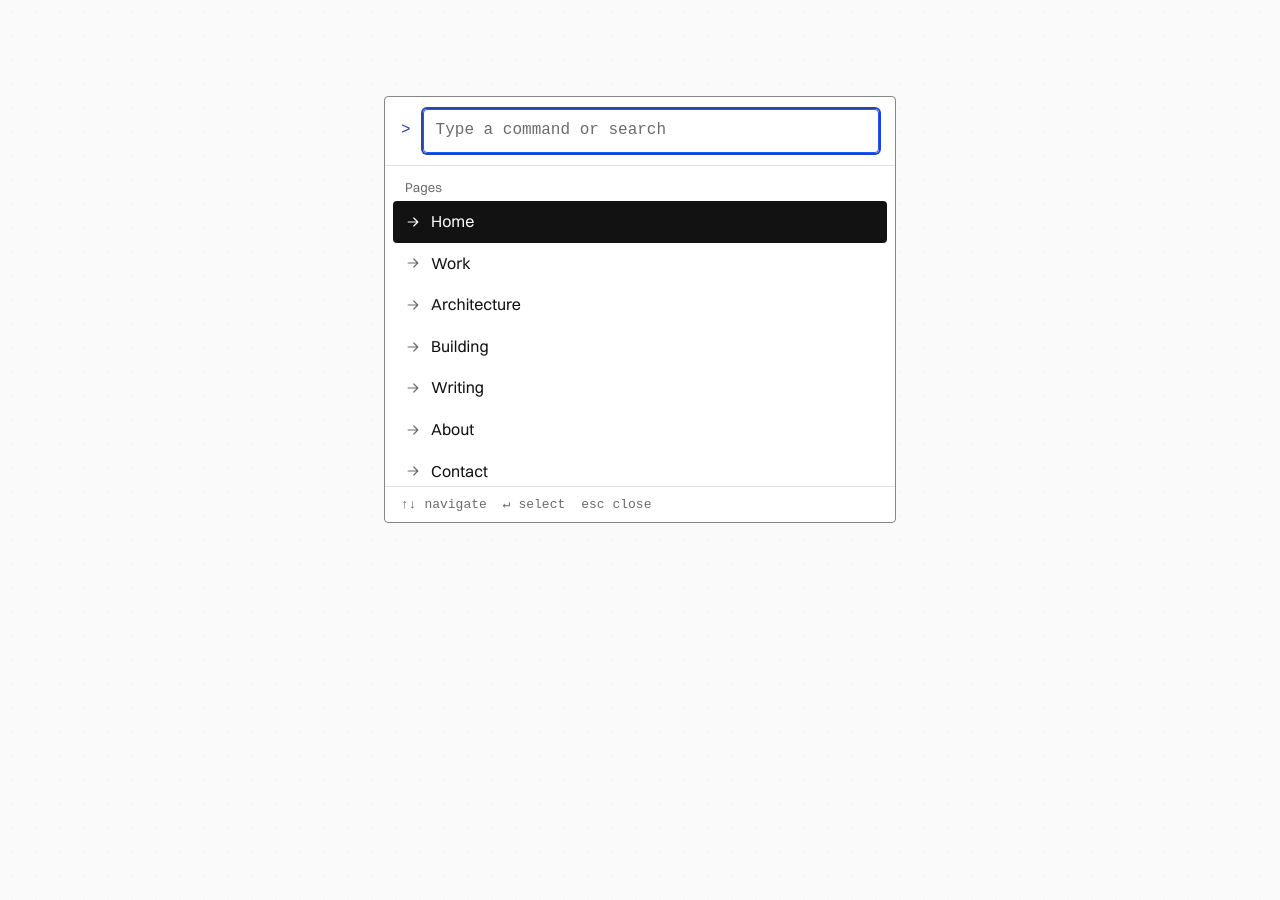
Test: CommandPalette.svelte › filters commands as the query changes
The width and height of the screenshot is (1280, 900).
Type "theme" into the field with placeholder "Type a command or search" at {"x": 651, "y": 131}, box [423,109,879,153]
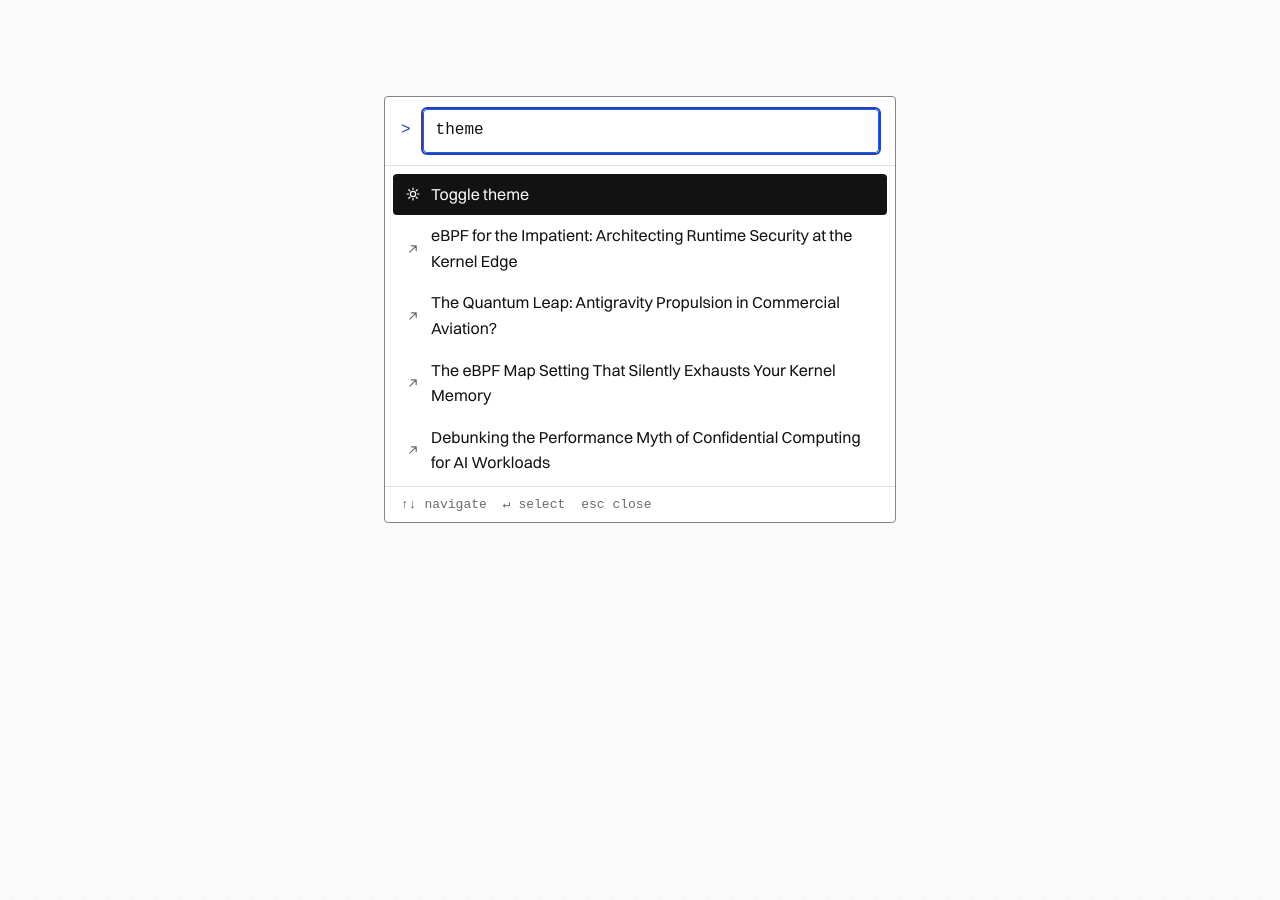
expect the button "Toggle theme" is shown: met, box [393,174,887,215]
